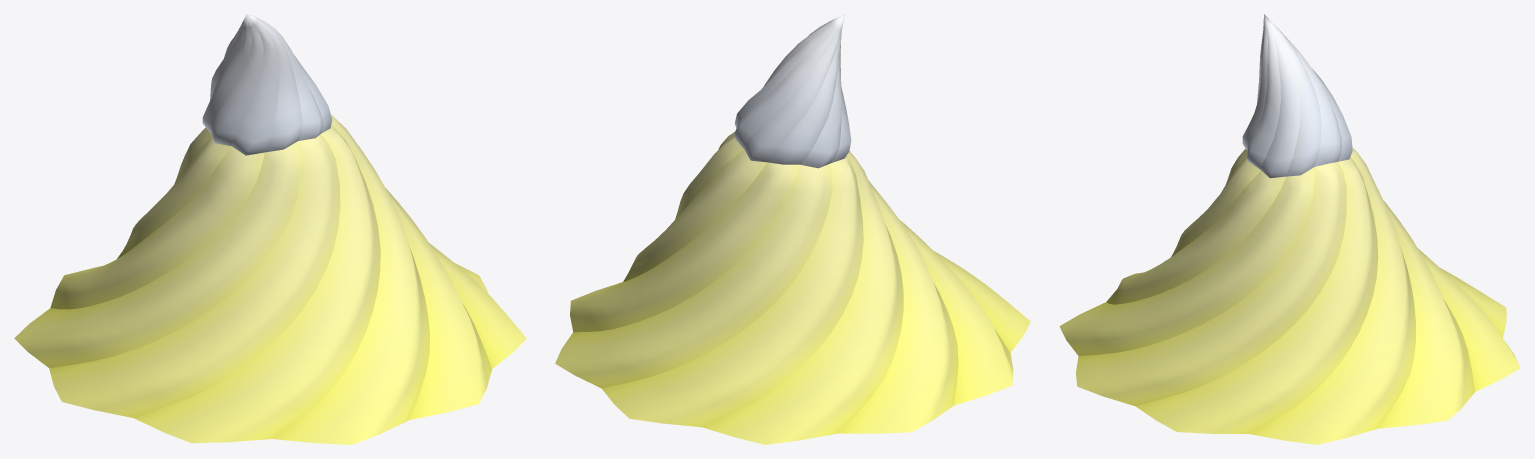
The model's file is Mountain_06.glb.
The picture shows the model from 3 angles, left to right: view 1: azimuth 30°, elevation 25°; view 2: azimuth 150°, elevation 25°; view 3: azimuth 270°, elevation 25°; orthographic projection. The views are drawn at different scales.
Visible parts, largest first — view 1: Mountain_06; view 2: Mountain_06; view 3: Mountain_06.
Part boxes in pixels (bbox=[...]): Mountain_06: bbox=[14, 14, 526, 444]; Mountain_06: bbox=[555, 14, 1030, 444]; Mountain_06: bbox=[1059, 14, 1520, 444].
Bounding box in the file's own units: 41.9 × 31.39 × 41.59.
Materials: 1 (1 with a texture image).
